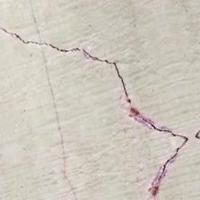crack: (0, 20, 191, 199)
